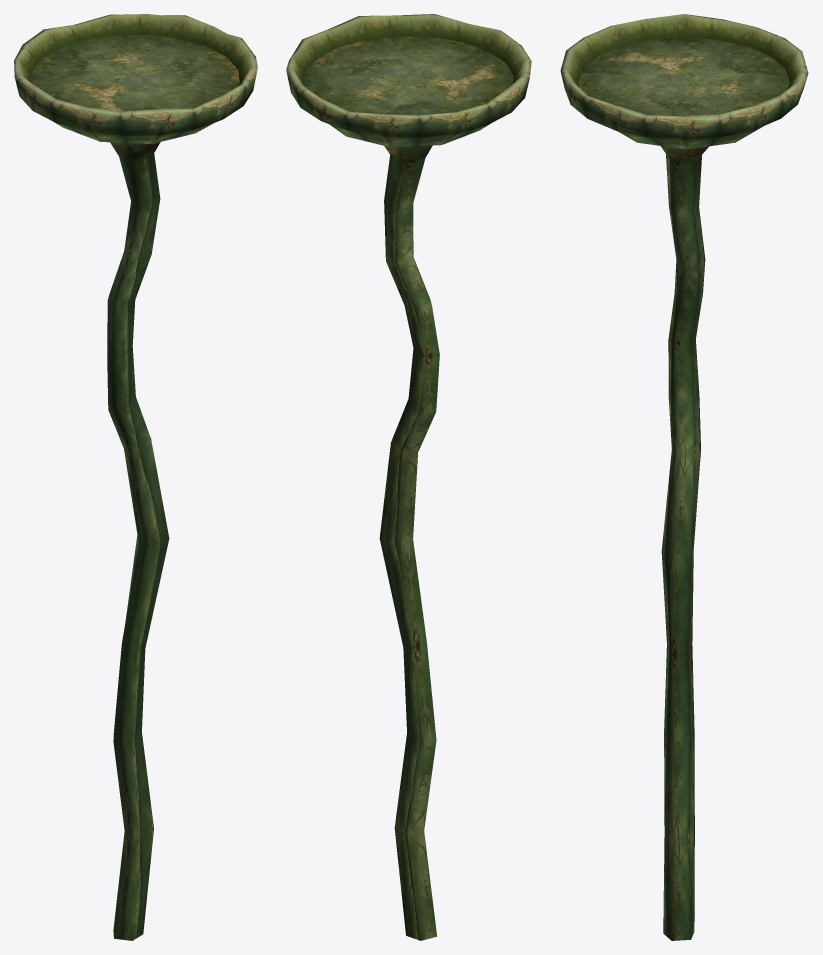
The model's file is LotasPlatform.gltf.
3 views of the same model, side by side, from view 1: azimuth 30°, elevation 25°; view 2: azimuth 150°, elevation 25°; view 3: azimuth 270°, elevation 25° (orthographic).
Visible parts, largest first — view 1: LotasPlatform; view 2: LotasPlatform; view 3: LotasPlatform.
Part boxes in pixels (<box>): LotasPlatform: <box>14,14,257,940</box>; LotasPlatform: <box>286,14,531,940</box>; LotasPlatform: <box>560,14,808,940</box>.
Size of the model in its own units: 7.15 by 27.82 by 7.14.
2 materials, 2 textured.
